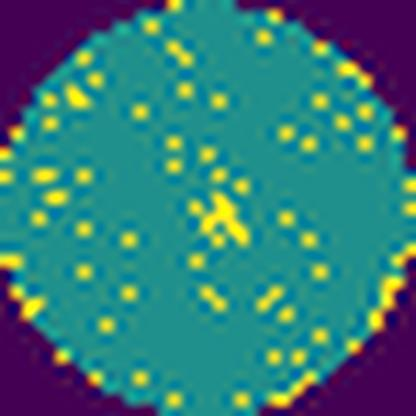Center: (185, 185, 256, 249)
